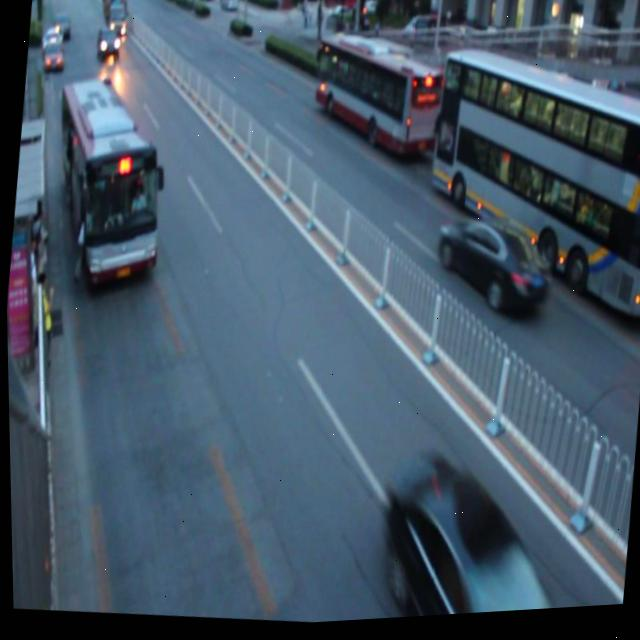car: (366, 448, 568, 623), (429, 215, 555, 328), (41, 37, 66, 74)
van: (418, 47, 640, 332), (39, 76, 174, 295), (308, 34, 444, 164)
